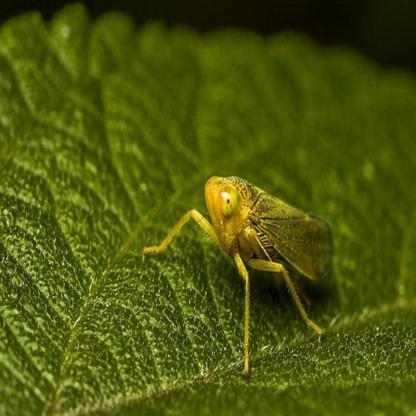green-leafhopper: (142, 175, 335, 366)
